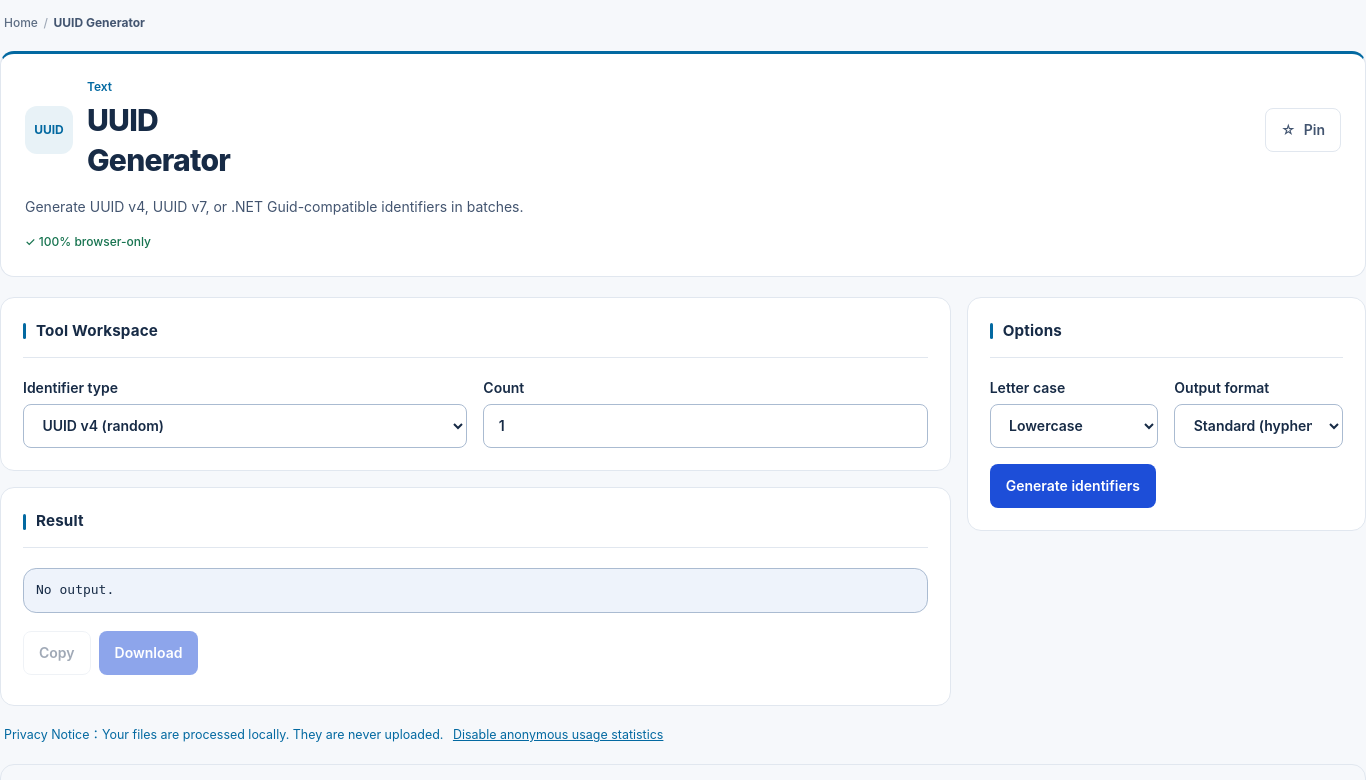
Test: UuidPage › shows an error and retains controls when generation fails
The width and height of the screenshot is (1366, 780).
Click the button "Generate identifiers" at (1073, 486), box [990,464,1156,508]
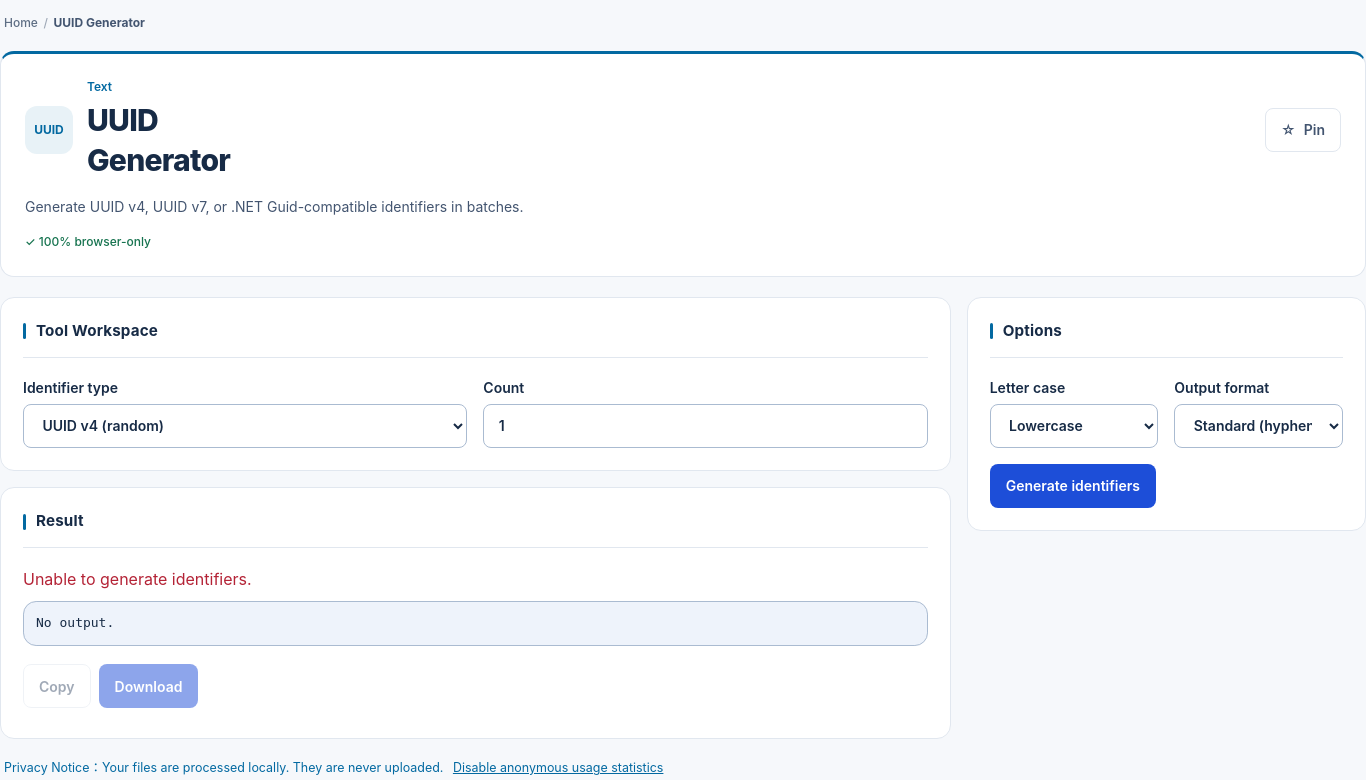
Expected: the dropdown labelled "Identifier type" shows "UUID v4 (random)", [23,404,467,448]
Now the message reads "Unable to generate identifiers.", box [23,569,252,589]
